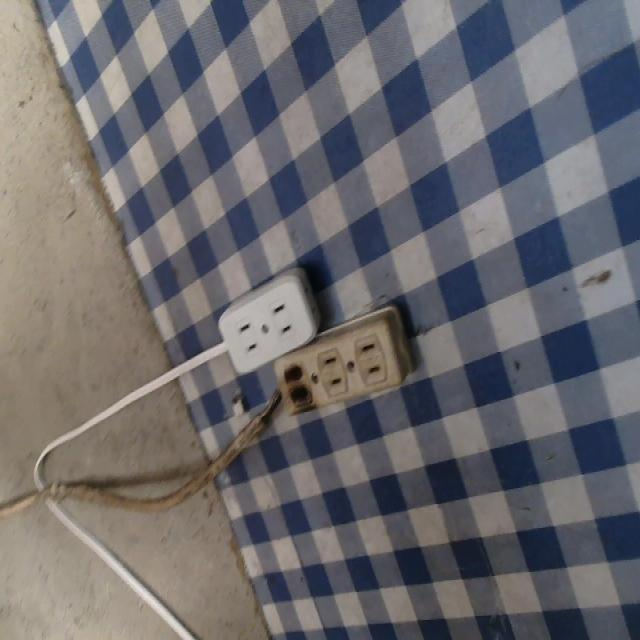-: (274, 353, 321, 418)
